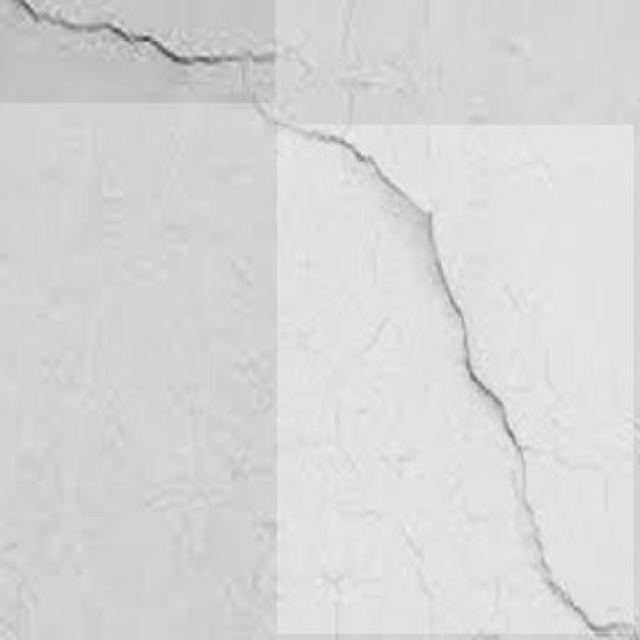Crack: (334, 123, 528, 454), (6, 5, 274, 104), (523, 540, 640, 640), (535, 435, 629, 473), (501, 458, 544, 530), (235, 109, 323, 142)
